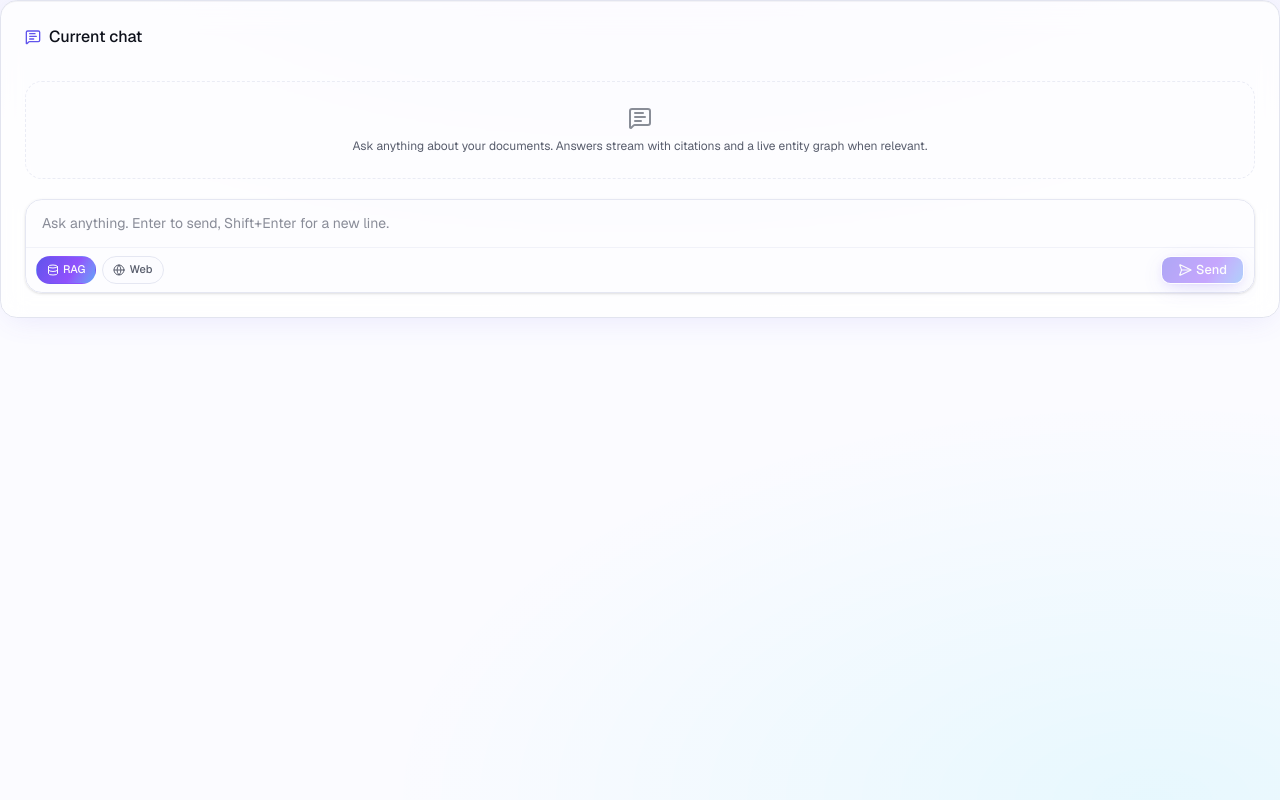
it: <ChatPanel /> › posting a question shows loading then renders answer + citations
The image size is (1280, 800).
Type "What is the embedding dim?" into the text box named "question" at (640, 224), box [26,200,1254,247]
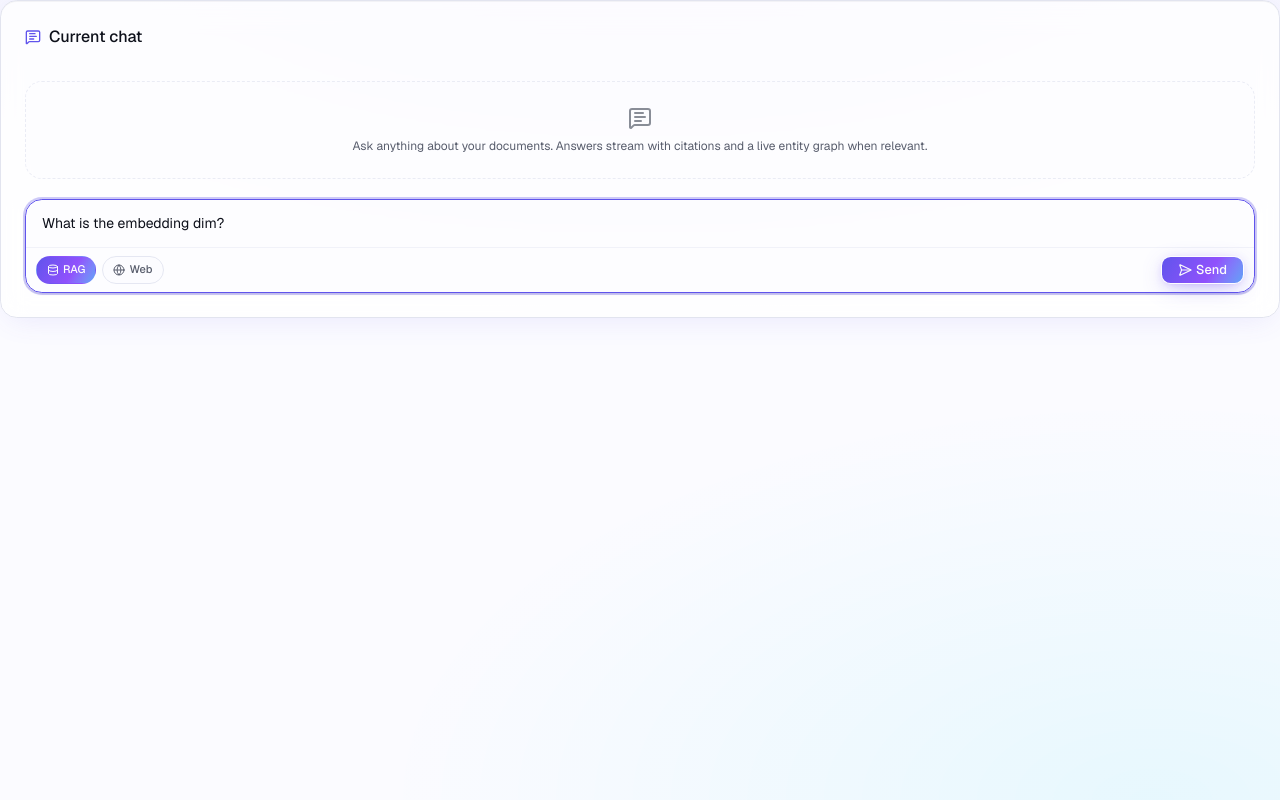
Click the button "Send" at (1202, 270), box [1161,256,1244,284]
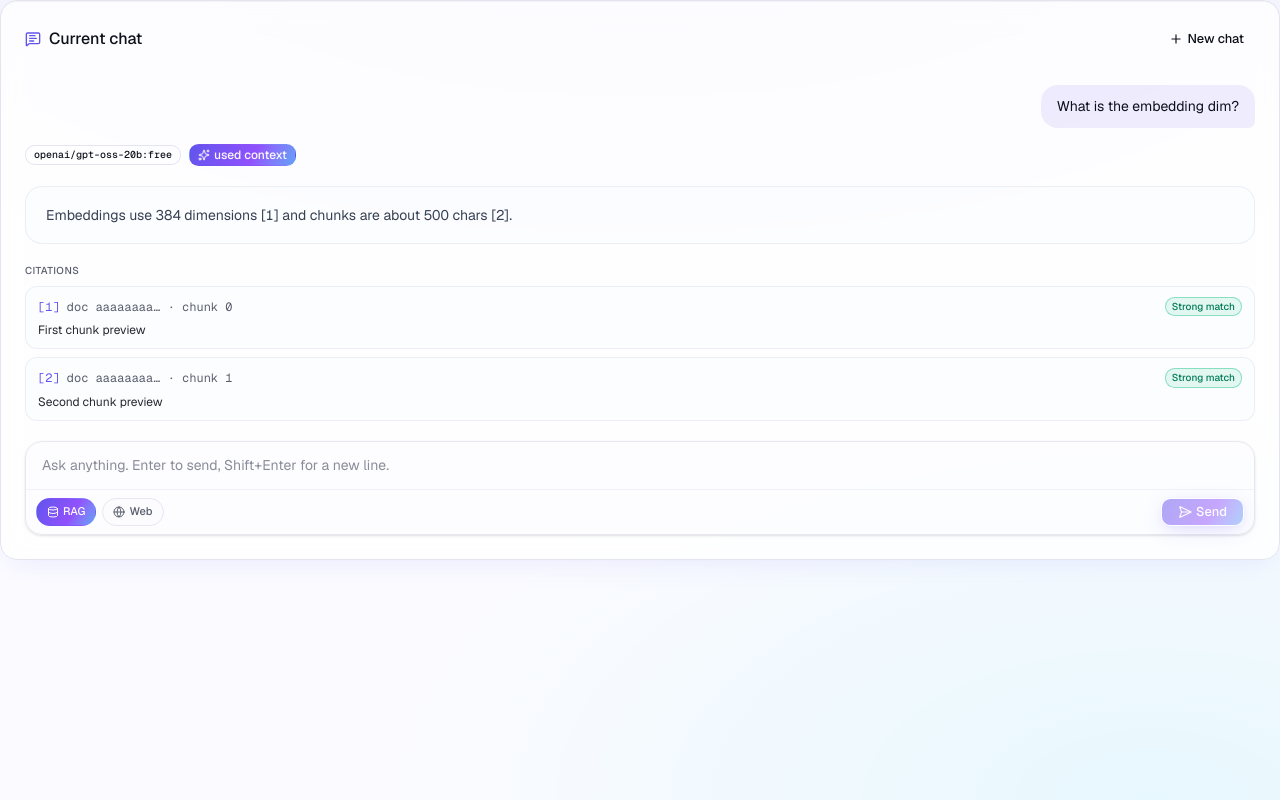
Result: the element with test id "chat-answer" is shown at [25,136,1255,421]
Result: the text "Embeddings use 384 dimensions" is shown at [46,206,512,224]
Result: the text "openai/gpt-oss-20b:free" is shown at [25,145,181,165]
